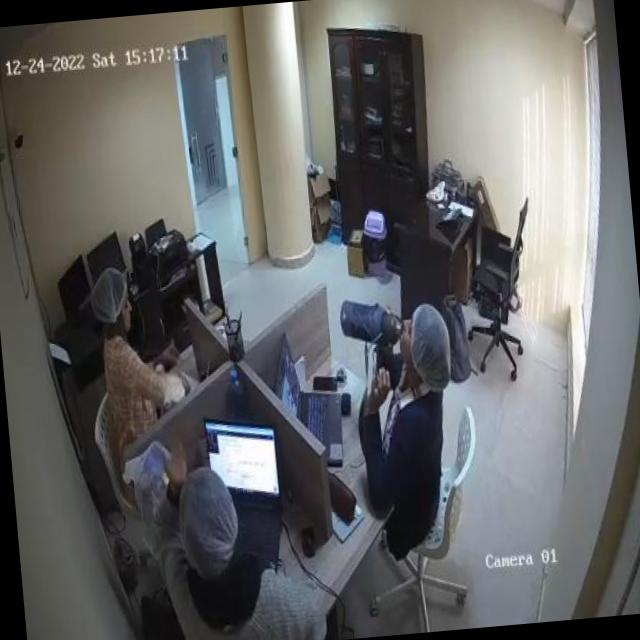hairnet: (182, 468, 240, 564), (410, 306, 452, 385), (90, 271, 130, 326)
